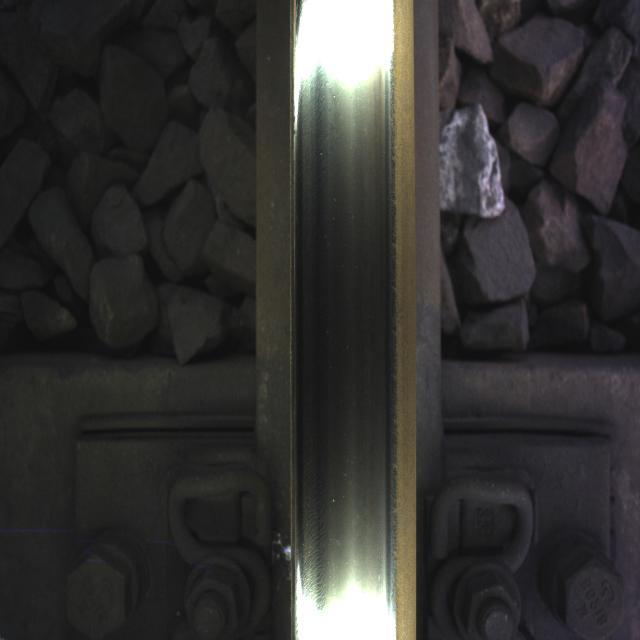break: (290, 44, 394, 628)
